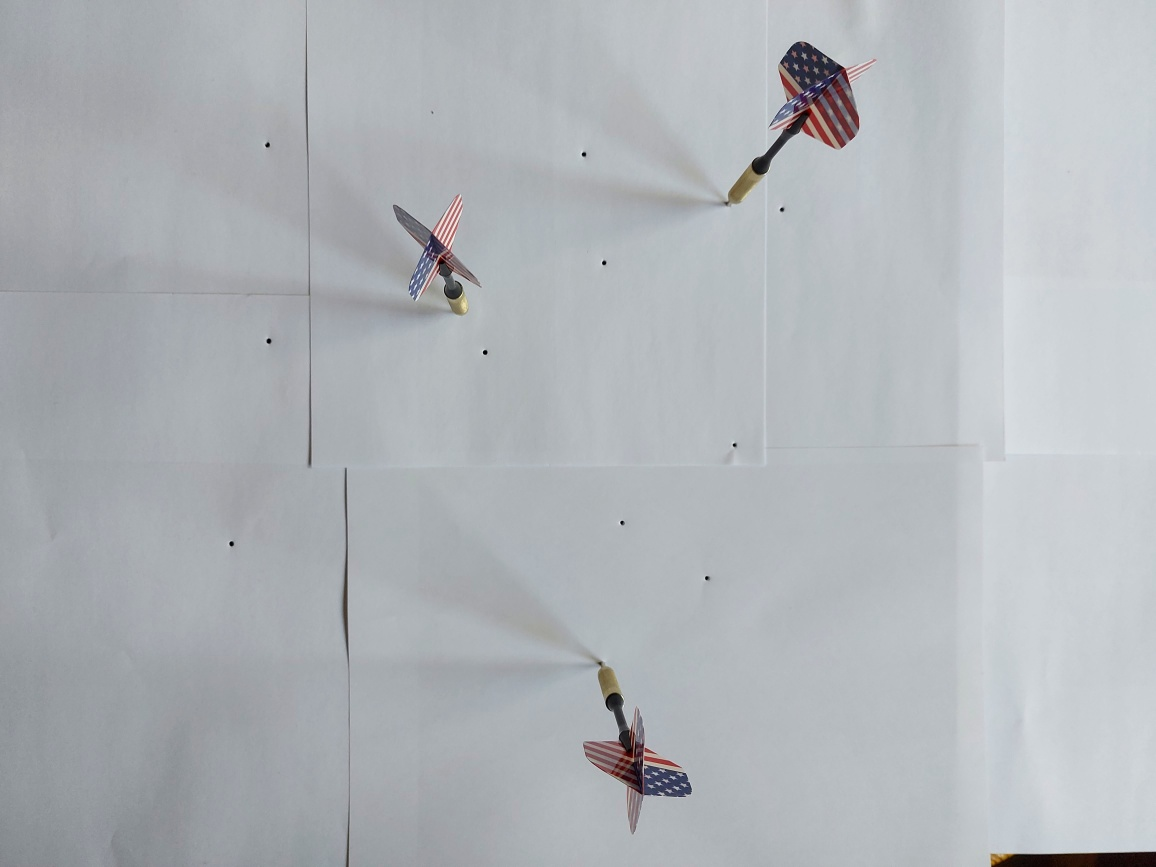Dart: (714, 33, 886, 218), (573, 647, 704, 841), (379, 187, 495, 330)
